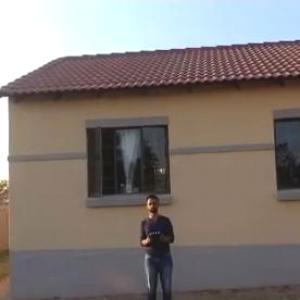follow: (136, 189, 182, 299)
